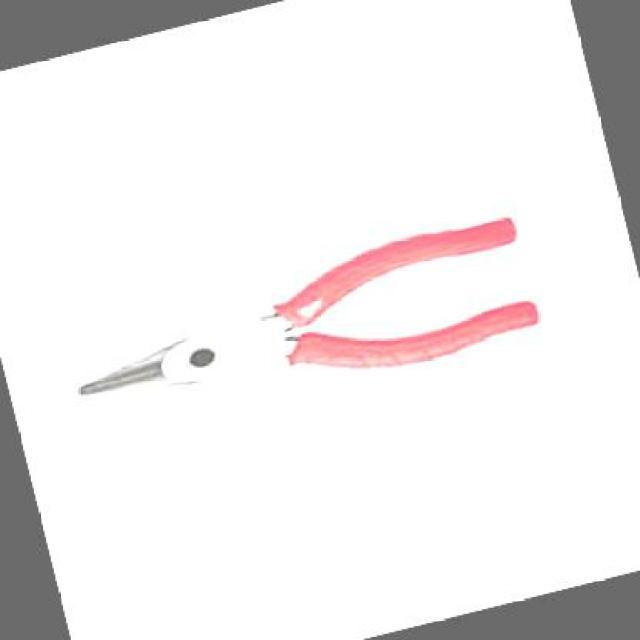pliers: (37, 182, 596, 486)
